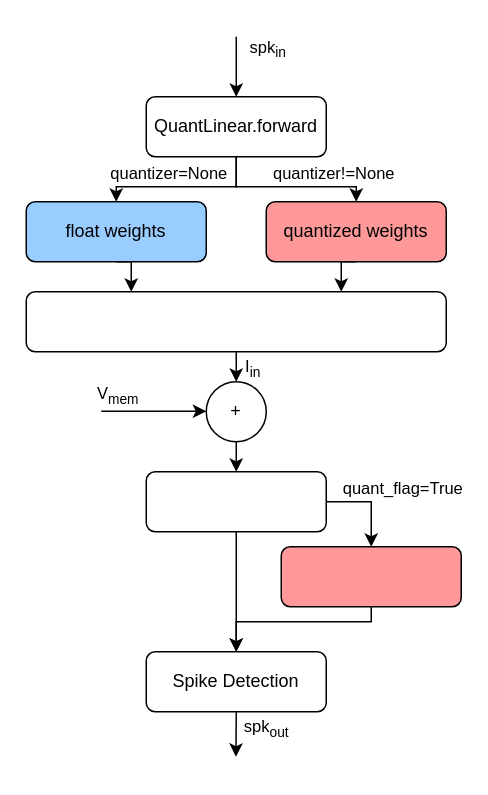
Image size: 488x795. Some labels were removed from this diagram. Here are the shapes that lost their labels. From the top down, the box of each, then its label:
(25, 290, 446, 352): torch.nn.linear
(145, 470, 326, 532): Update
(280, 545, 461, 607): quantize V mem
